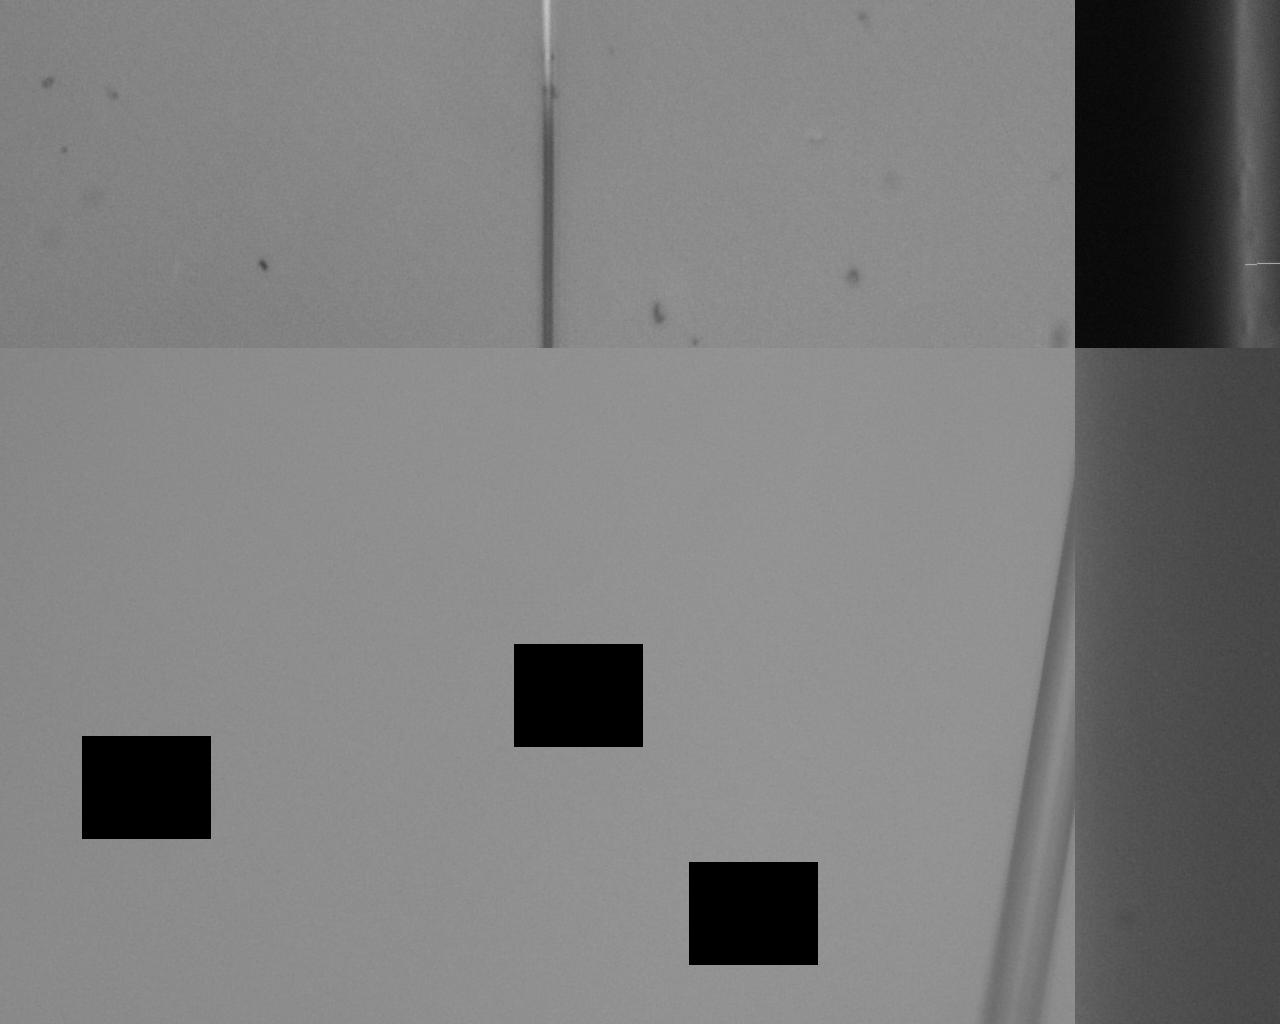fiber: (980, 458, 1075, 1024), (537, 0, 551, 348)
